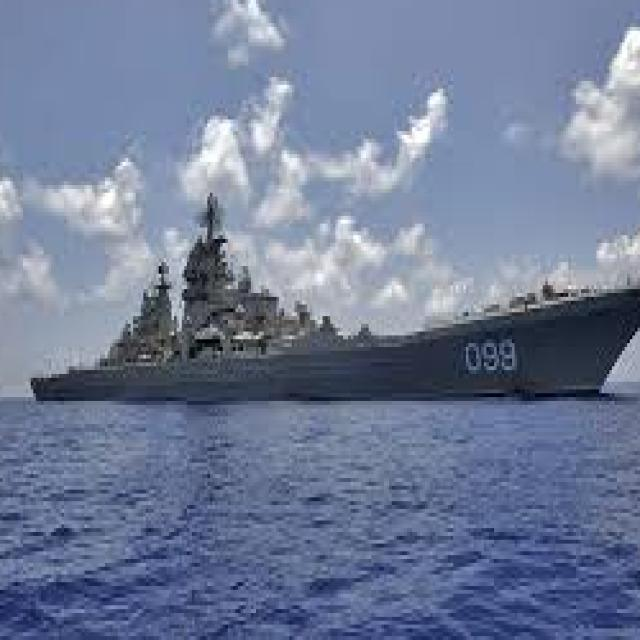navalvessels: (13, 192, 640, 412)
